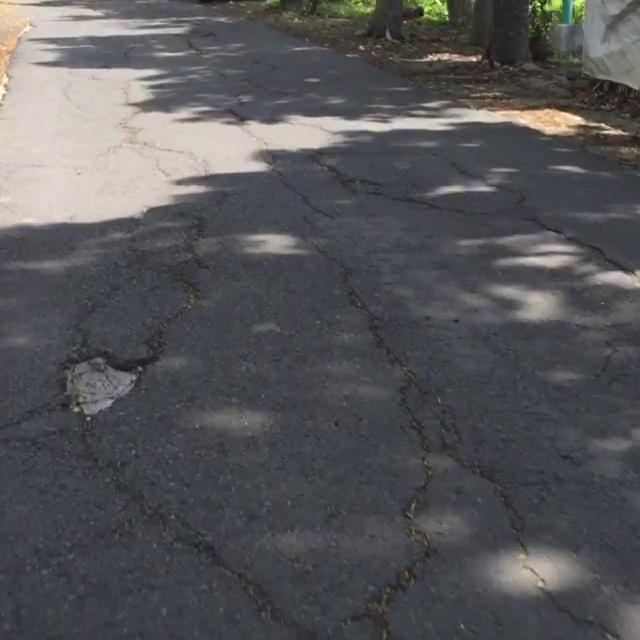retak_memanjang: (270, 197, 455, 640), (460, 455, 640, 640), (86, 84, 233, 306), (89, 466, 269, 616), (540, 231, 640, 432)
